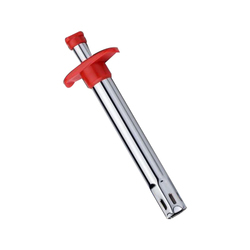Nonrec_Other: (53, 23, 190, 221)
